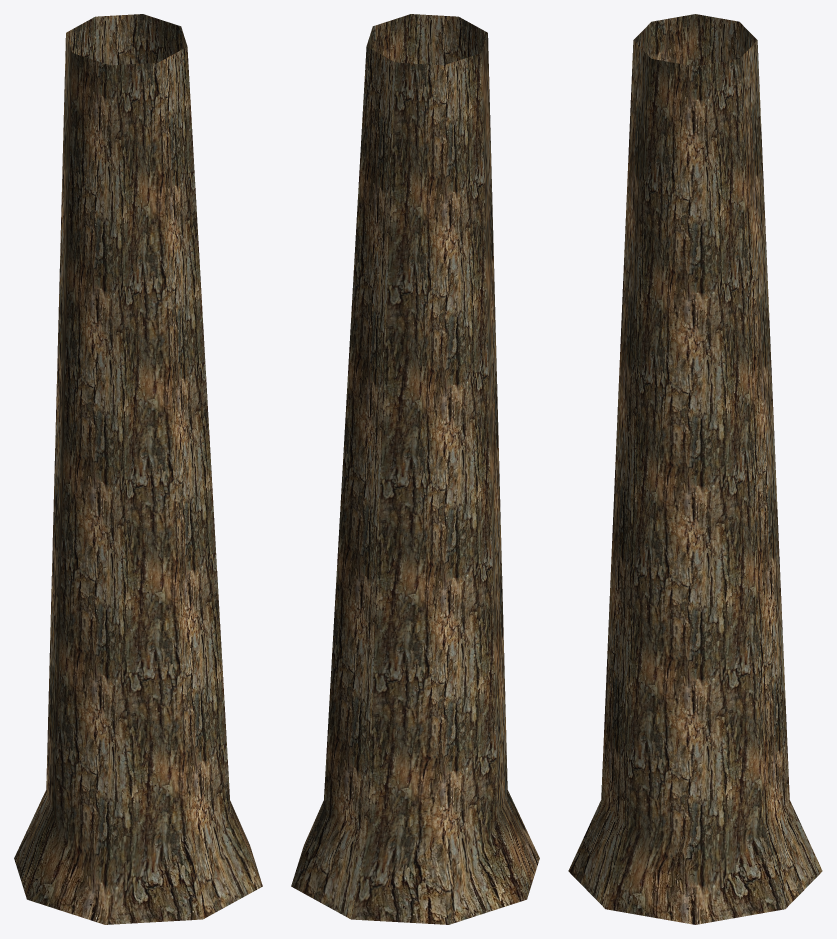
Rendered from treebark.obj.
3 views of the same model, side by side, from view 1: azimuth 30°, elevation 25°; view 2: azimuth 150°, elevation 25°; view 3: azimuth 270°, elevation 25° (orthographic).
Parts seen in each view (by area): view 1: Cylinder.001; view 2: Cylinder.001; view 3: Cylinder.001.
Part boxes in pixels (x1,y1,x2,y2): Cylinder.001: (14,14,262,924); Cylinder.001: (291,14,539,924); Cylinder.001: (568,14,822,924).
Bounding box in the file's own units: 6.46 × 23.1 × 6.46.
